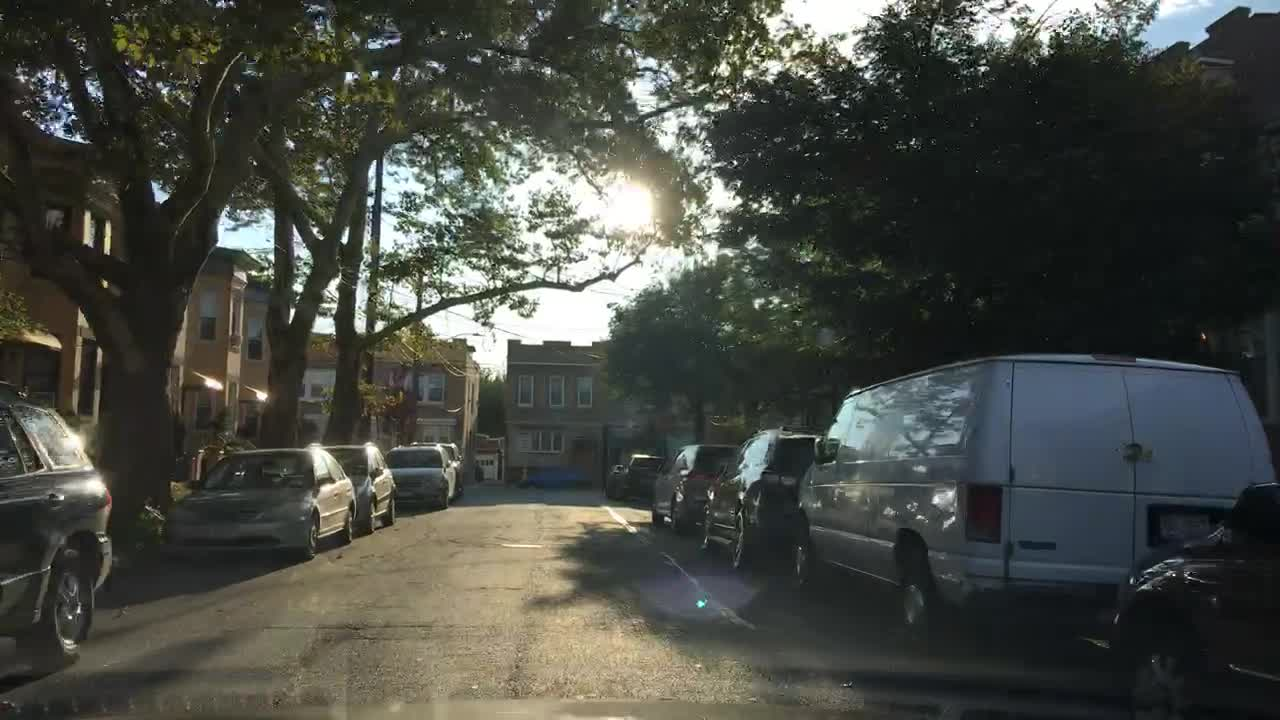car: (1106, 479, 1280, 719), (0, 380, 113, 674), (157, 445, 355, 562), (696, 428, 822, 562), (312, 439, 400, 531), (650, 445, 735, 531), (387, 445, 454, 509), (618, 456, 664, 500), (514, 469, 597, 491), (441, 437, 463, 491), (604, 463, 622, 494)
person: (471, 455, 484, 482)
truck: (785, 351, 1274, 643)
